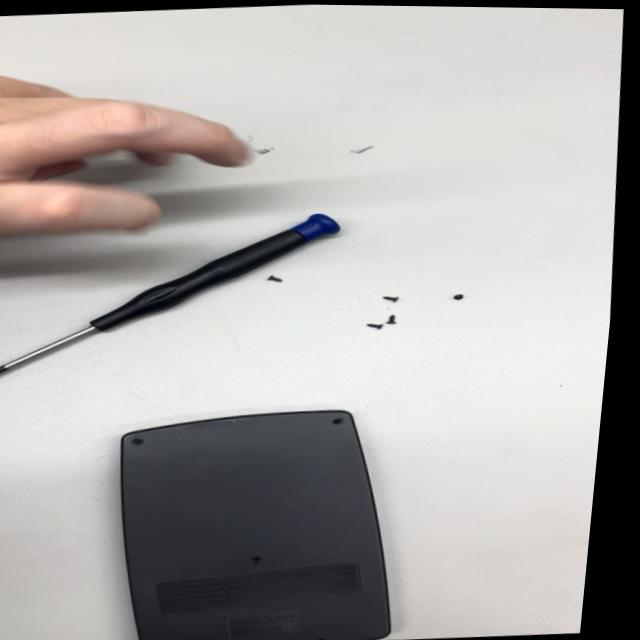back_cover: (94, 397, 413, 640)
screw: (369, 292, 402, 305), (364, 318, 386, 335), (448, 291, 466, 307), (382, 311, 400, 325), (267, 273, 282, 286)
screw_driver: (0, 203, 351, 395)
